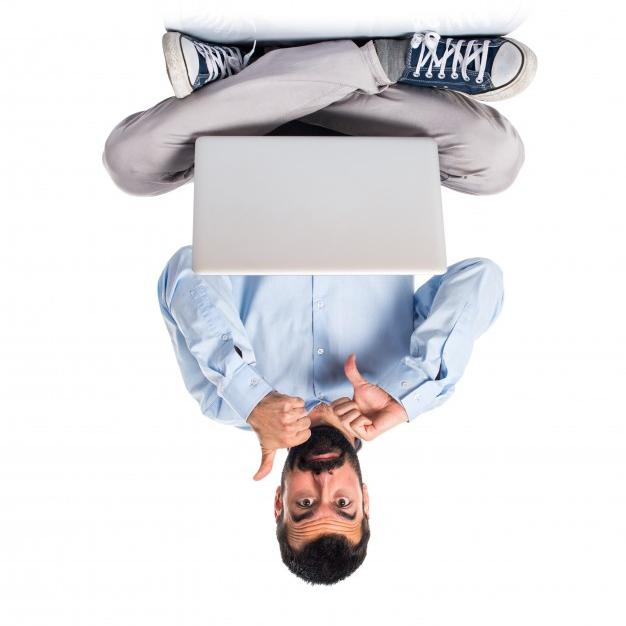thumbsdown: (253, 397, 311, 482)
